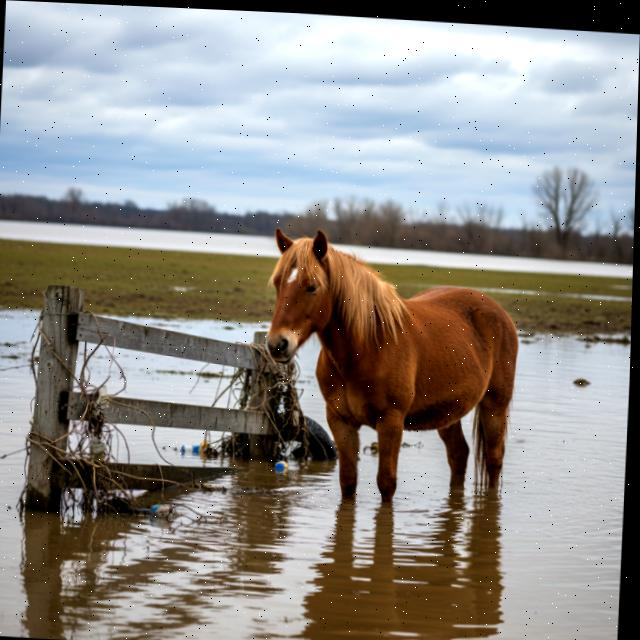horse: (240, 215, 544, 540)
